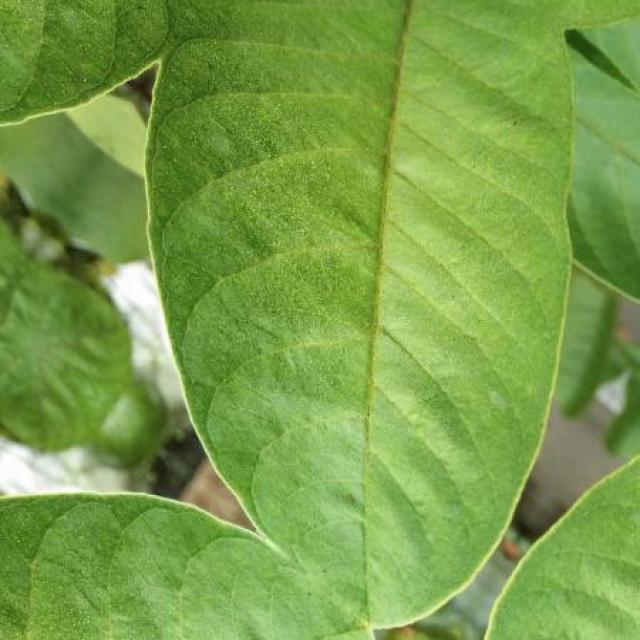Disease Free: (0, 210, 161, 456), (488, 458, 640, 640)
